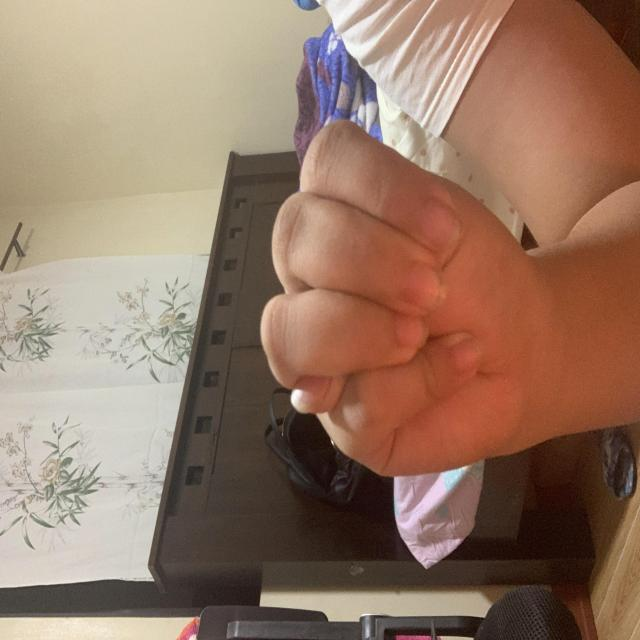M: (118, 259, 480, 537)
